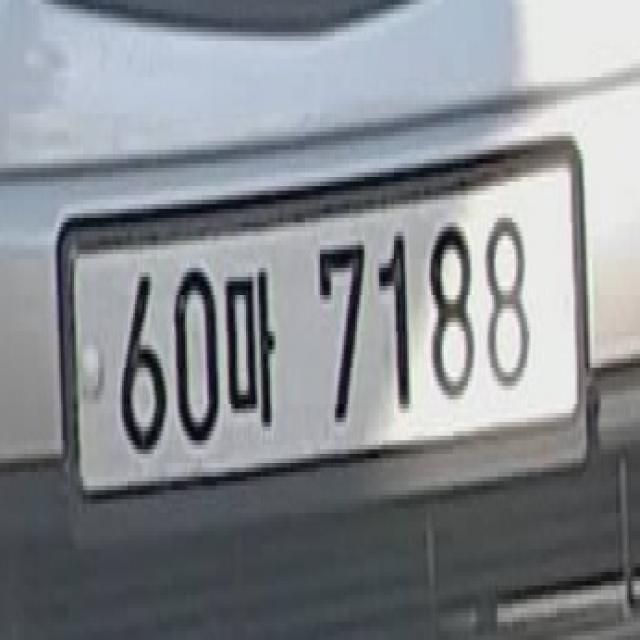0: (173, 256, 220, 455)
1: (374, 223, 421, 415)
6: (115, 260, 168, 461)
7: (314, 225, 371, 437)
8: (482, 197, 534, 400), (426, 210, 478, 409)
license_plate: (46, 119, 602, 552)
ma: (222, 250, 284, 444)
